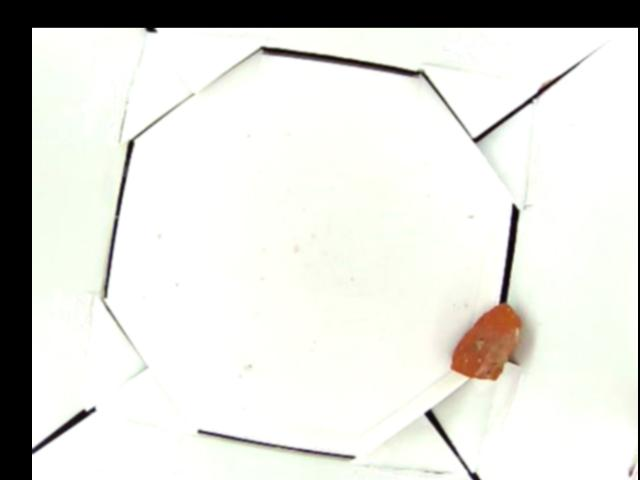Brisk: (450, 301, 516, 378)
